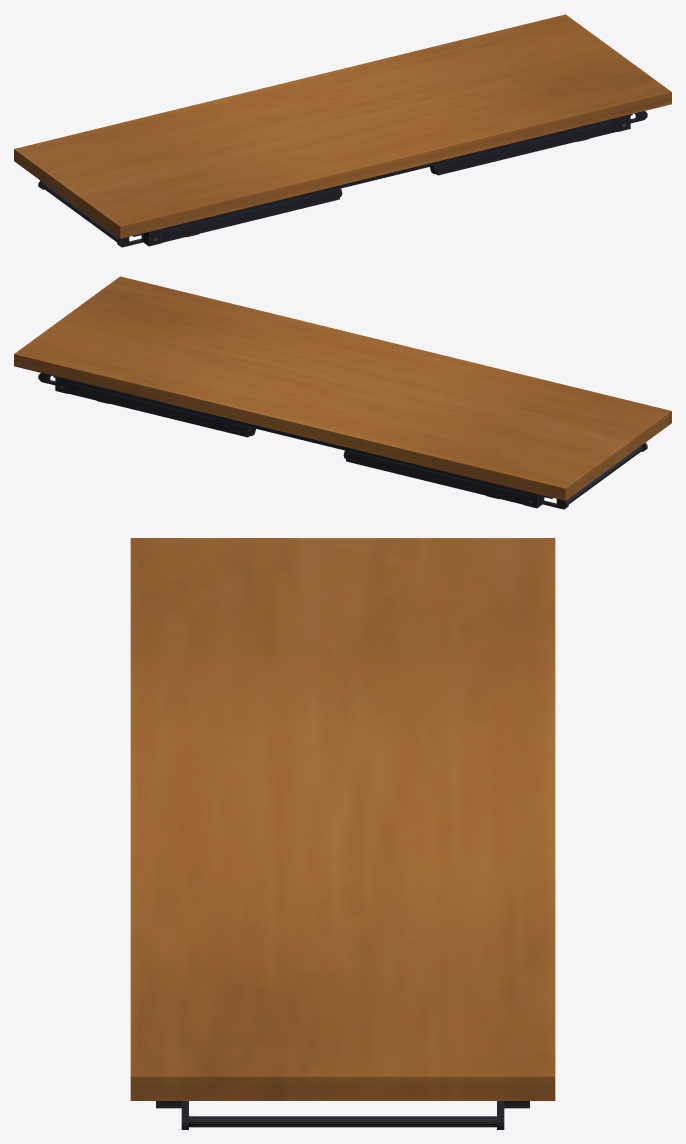
Rendered from jsf_FoldingTable_b.fbx.
The picture shows the model from 3 angles, top to bottom: view 1: azimuth 30°, elevation 25°; view 2: azimuth 150°, elevation 25°; view 3: azimuth 270°, elevation 25°; orthographic projection. The views are drawn at different scales.
Visible parts, largest first — view 1: jsf_FoldingTable_b; view 2: jsf_FoldingTable_b; view 3: jsf_FoldingTable_b.
Part boxes in pixels (x1=…): jsf_FoldingTable_b: x1=14, y1=14, x2=671, y2=247; jsf_FoldingTable_b: x1=14, y1=276, x2=671, y2=509; jsf_FoldingTable_b: x1=130, y1=538, x2=555, y2=1129.
Size of the model in its own units: 180 by 10.77 by 60.
